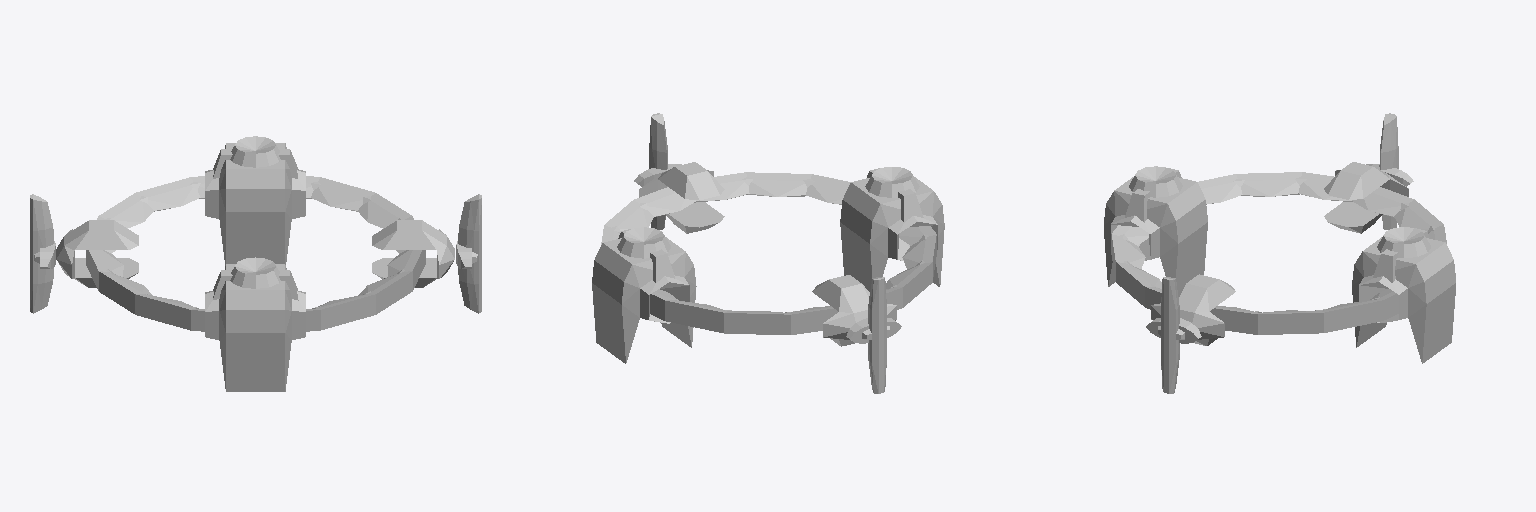
Rendered from stg300_MotGate_p2_16.obj.
The picture shows the model from 3 angles: view 1: azimuth 30°, elevation 25°; view 2: azimuth 150°, elevation 25°; view 3: azimuth 270°, elevation 25°; orthographic projection.
Visible parts, largest first — view 1: polygon0, polygon6, polygon7, polygon5, polygon3, polygon1, polygon4, polygon2; view 2: polygon0, polygon6, polygon7, polygon4, polygon1, polygon3, polygon5; view 3: polygon0, polygon6, polygon7, polygon2, polygon1, polygon5, polygon3.
Part boxes in pixels (left/top/right/bottom): polygon0: left=56, top=143, right=454, bottom=391; polygon6: left=86, top=176, right=425, bottom=331; polygon7: left=98, top=183, right=412, bottom=308; polygon5: left=33, top=200, right=55, bottom=313; polygon3: left=456, top=200, right=478, bottom=313; polygon1: left=89, top=136, right=421, bottom=274; polygon4: left=30, top=194, right=53, bottom=312; polygon2: left=458, top=194, right=481, bottom=312; polygon0: left=592, top=167, right=944, bottom=363; polygon6: left=601, top=172, right=936, bottom=334; polygon7: left=613, top=180, right=925, bottom=312; polygon4: left=846, top=277, right=901, bottom=393; polygon1: left=624, top=162, right=912, bottom=288; polygon3: left=648, top=117, right=675, bottom=229; polygon5: left=857, top=279, right=889, bottom=392; polygon0: left=1104, top=167, right=1455, bottom=363; polygon6: left=1111, top=172, right=1446, bottom=334; polygon7: left=1123, top=180, right=1434, bottom=312; polygon2: left=1146, top=277, right=1201, bottom=393; polygon1: left=1135, top=162, right=1424, bottom=287; polygon5: left=1372, top=117, right=1399, bottom=229; polygon3: left=1158, top=279, right=1190, bottom=392.
Bounding box in the file's own units: 216 × 69.79 × 188.